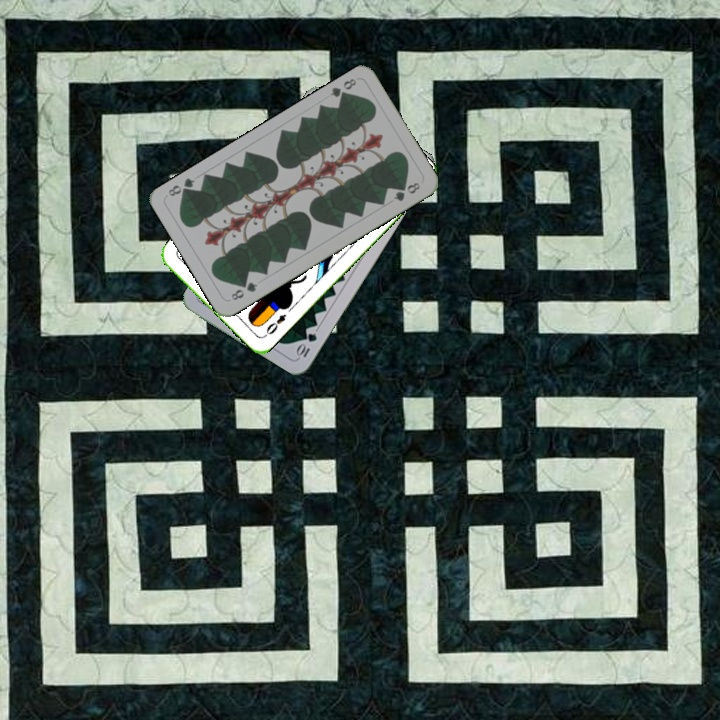EO: (260, 310, 289, 340)
G10: (292, 329, 320, 360)
G8: (326, 74, 359, 103), (227, 278, 260, 303)
